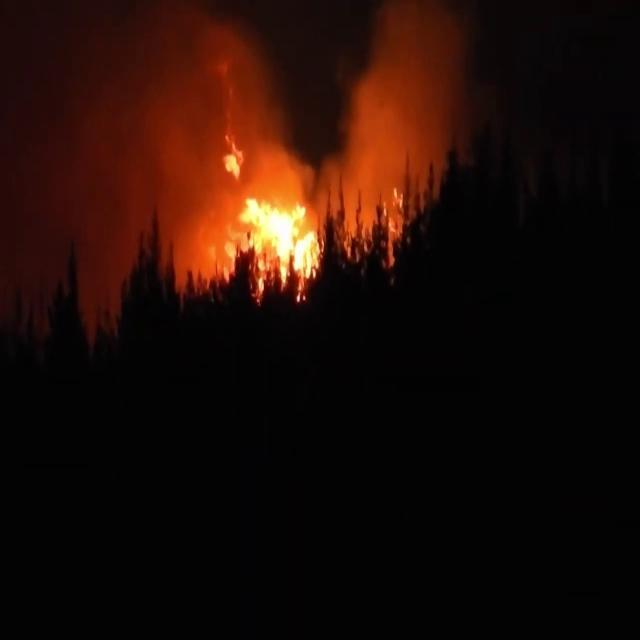Fire: (240, 191, 318, 311), (196, 111, 258, 197), (374, 173, 422, 268), (192, 228, 246, 276)
Smoke: (29, 26, 162, 286), (355, 2, 482, 156)
